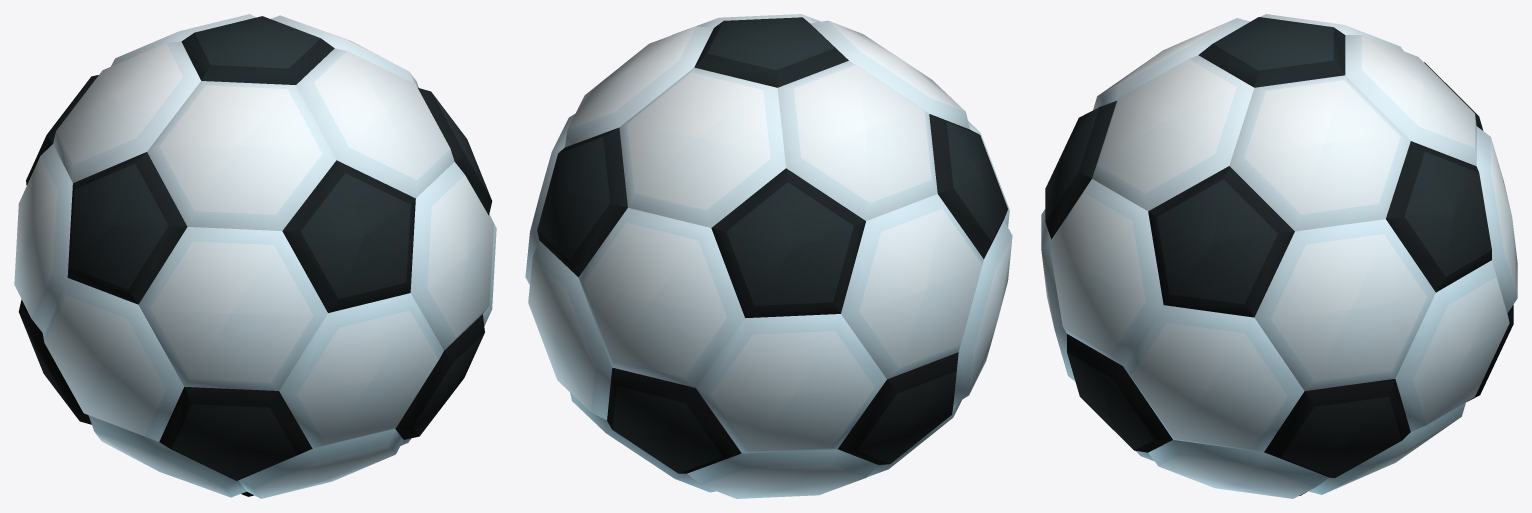
The model's file is football.fbx.
The picture shows the model from 3 angles, left to right: view 1: azimuth 30°, elevation 25°; view 2: azimuth 150°, elevation 25°; view 3: azimuth 270°, elevation 25°; orthographic projection.
Parts seen in each view (by area): view 1: football; view 2: football; view 3: football.
Boxes of the visible parts, <box> form: football: <box>14,14,496,498</box>; football: <box>525,14,1012,498</box>; football: <box>1041,14,1517,498</box>.
Bounding box in the file's own units: 0.5689 × 0.5768 × 0.5665.
